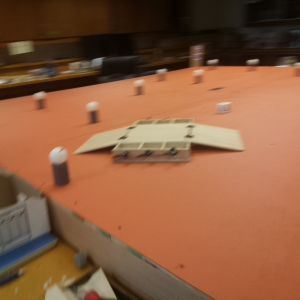blockA: (218, 101, 232, 115)
corner: (189, 44, 205, 67)
obstacle: (44, 145, 75, 191), (84, 100, 102, 124), (32, 91, 50, 112), (244, 55, 262, 74), (133, 79, 147, 96), (156, 67, 169, 84), (208, 59, 221, 71), (194, 70, 203, 84)
side: (122, 141, 193, 166), (134, 116, 195, 125)
slope: (186, 126, 246, 142), (84, 127, 138, 141)
start: (208, 85, 225, 94)
